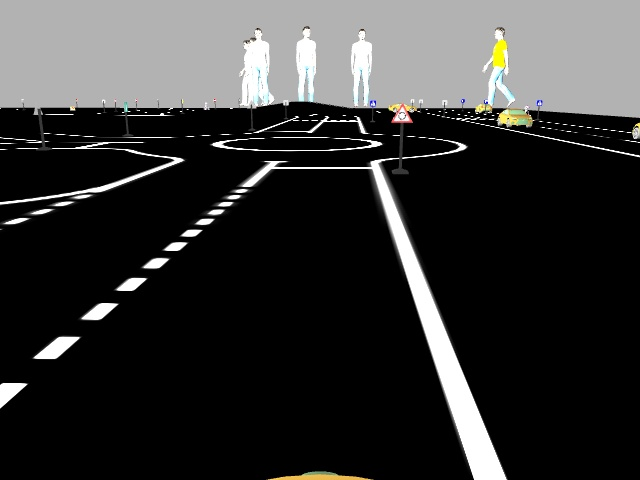Roundabout: (387, 102, 414, 126)
